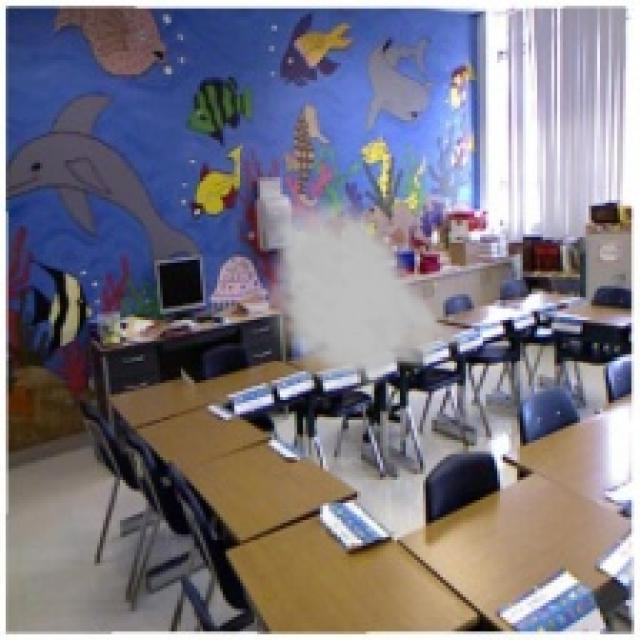Smoke: (260, 186, 483, 394)
